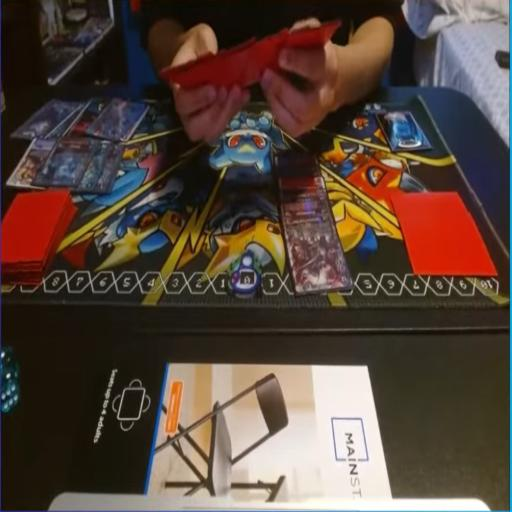card: (280, 199, 349, 299), (32, 135, 98, 185), (10, 95, 76, 137), (7, 130, 55, 186), (84, 98, 146, 140), (70, 135, 109, 195), (52, 99, 90, 142), (97, 142, 121, 195), (270, 161, 325, 181), (269, 190, 335, 205), (274, 178, 328, 192), (270, 151, 317, 161)
